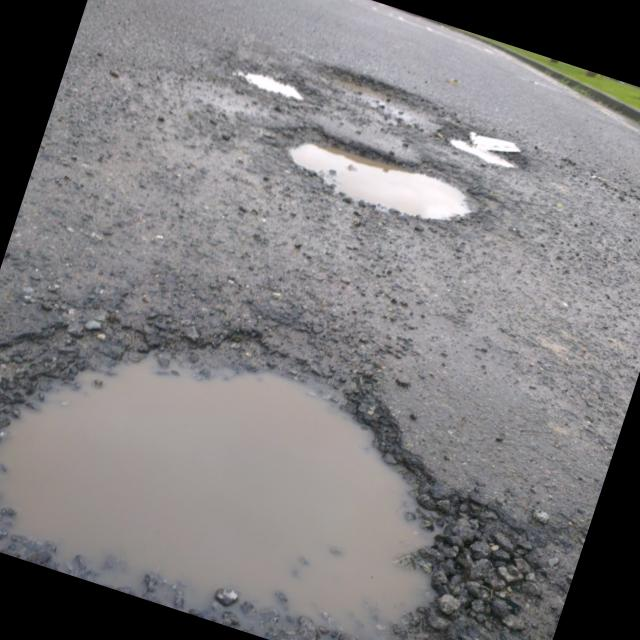Potholes: (0, 255, 575, 640), (232, 109, 496, 258), (298, 49, 476, 162), (438, 112, 548, 192), (214, 45, 312, 118)
